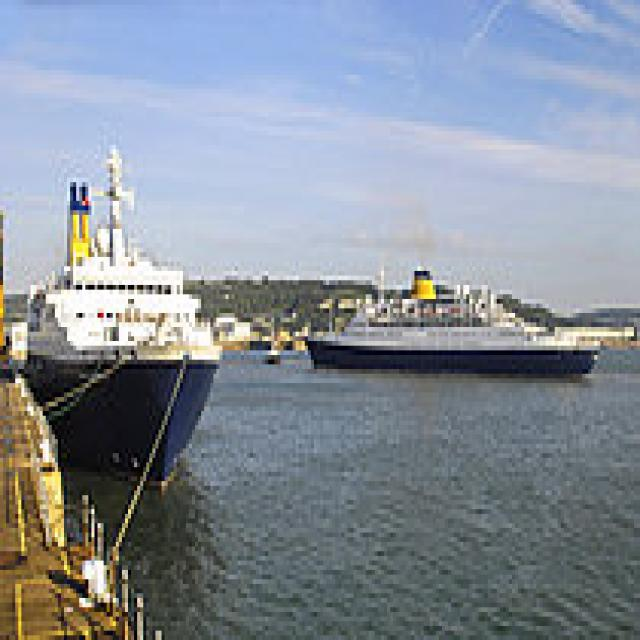Ship: (35, 132, 221, 497), (306, 249, 605, 394)
